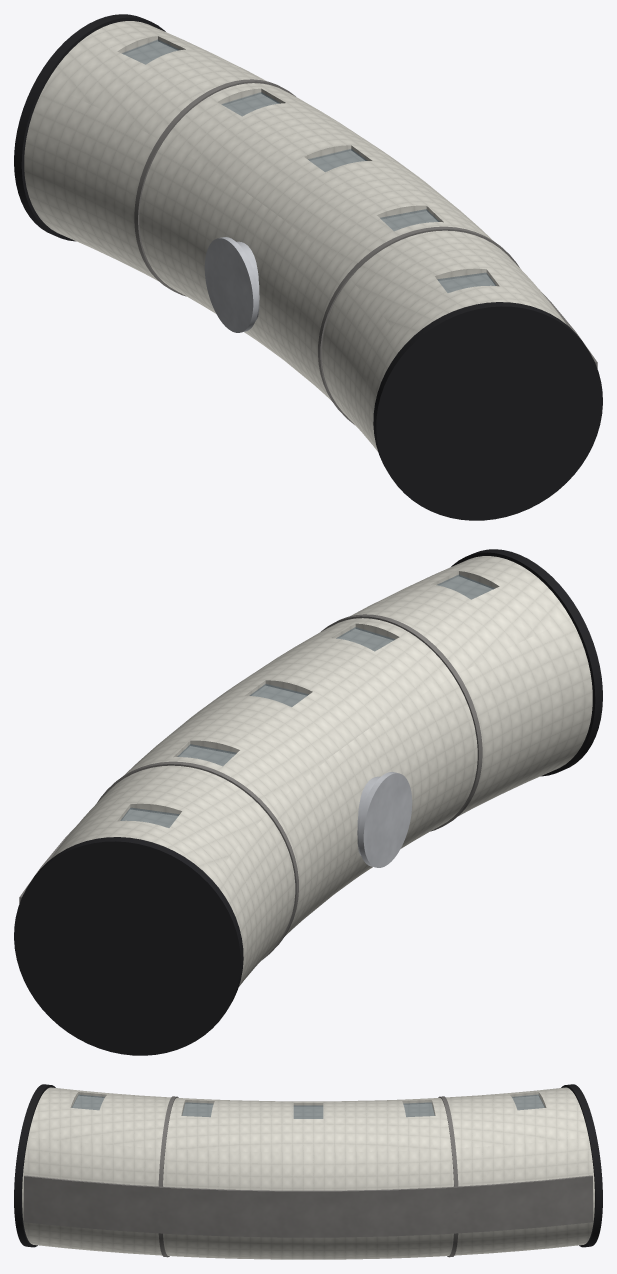
The model's file is station11_ring_segment.glb.
3 renders of one model, top to bottom at view 1: azimuth 30°, elevation 25°; view 2: azimuth 150°, elevation 25°; view 3: azimuth 270°, elevation 25°, orthographic. The views are drawn at different scales.
Parts seen in each view (by area): view 1: segment_hull, end_flanges, spoke_port, windows, ring_frames; view 2: segment_hull, end_flanges, spoke_port, windows, ring_frames; view 3: segment_hull, ballast_tank_band, end_flanges, windows, ring_frames.
Boxes of the visible parts, x1,y1,x2,y2 form: segment_hull: (24,21,566,451); end_flanges: (14,14,602,520); spoke_port: (204,237,259,332); windows: (122,39,496,292); ring_frames: (134,79,519,424); segment_hull: (50,556,592,986); end_flanges: (14,549,602,1055); spoke_port: (357,772,412,867); windows: (120,574,494,827); ring_frames: (97,614,482,959); segment_hull: (22,1087,594,1259); ballast_tank_band: (24,1175,592,1237); end_flanges: (14,1084,602,1247); windows: (72,1094,544,1118); ring_frames: (158,1096,458,1257).
Size of the model in its own units: 4.63 by 3.87 by 13.94.
Materials: 5 (3 with a texture image).
